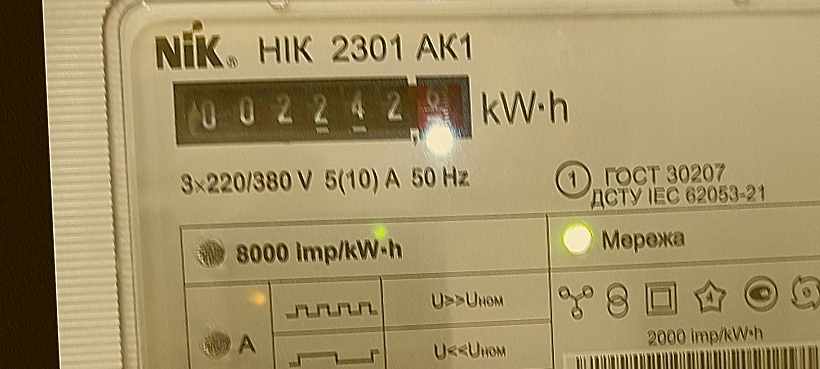0: (196, 97, 217, 131), (234, 93, 254, 127)
2: (272, 91, 293, 124), (309, 91, 328, 125), (383, 89, 401, 122)
4: (347, 87, 364, 120)
6: (422, 82, 439, 109)
screen: (160, 57, 481, 162)
